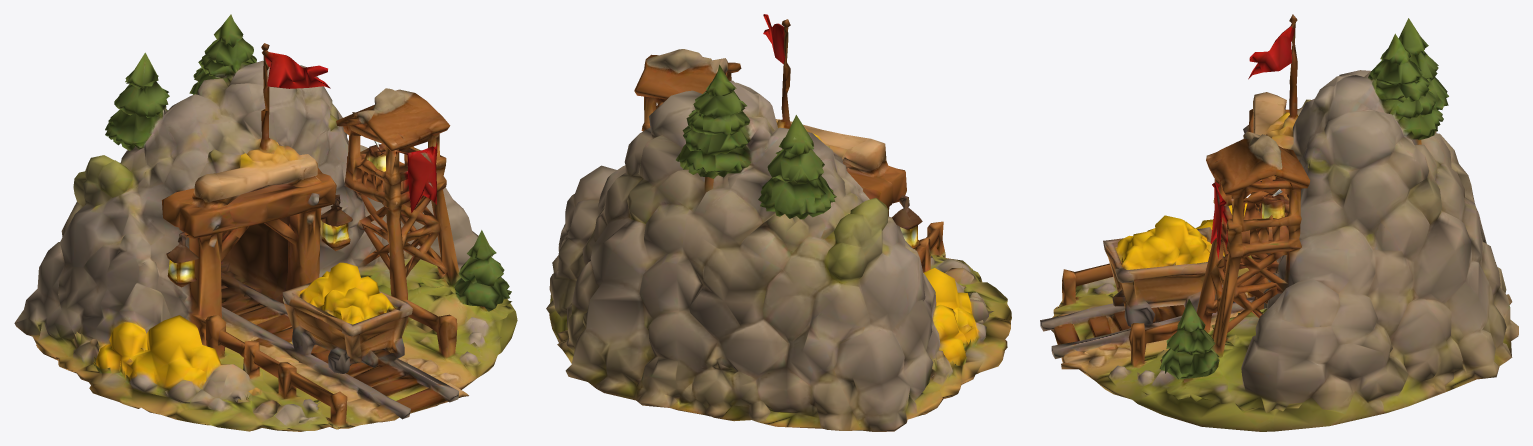
The model's file is altin.glb.
3 views of the same model, side by side, from view 1: azimuth 30°, elevation 25°; view 2: azimuth 150°, elevation 25°; view 3: azimuth 270°, elevation 25° (orthographic). The views are drawn at different scales.
Parts seen in each view (by area): view 1: tripo_node_f4a93124-eaaa-4100-b693-3d1a4a08ba68; view 2: tripo_node_f4a93124-eaaa-4100-b693-3d1a4a08ba68; view 3: tripo_node_f4a93124-eaaa-4100-b693-3d1a4a08ba68.
Part boxes in pixels (left/top/right/bottom): tripo_node_f4a93124-eaaa-4100-b693-3d1a4a08ba68: left=14, top=14, right=517, bottom=431; tripo_node_f4a93124-eaaa-4100-b693-3d1a4a08ba68: left=546, top=14, right=1011, bottom=431; tripo_node_f4a93124-eaaa-4100-b693-3d1a4a08ba68: left=1040, top=14, right=1518, bottom=431.
Size of the model in its own units: 0.9788 by 0.6859 by 0.9645.
Materials: 1 (1 with a texture image).
